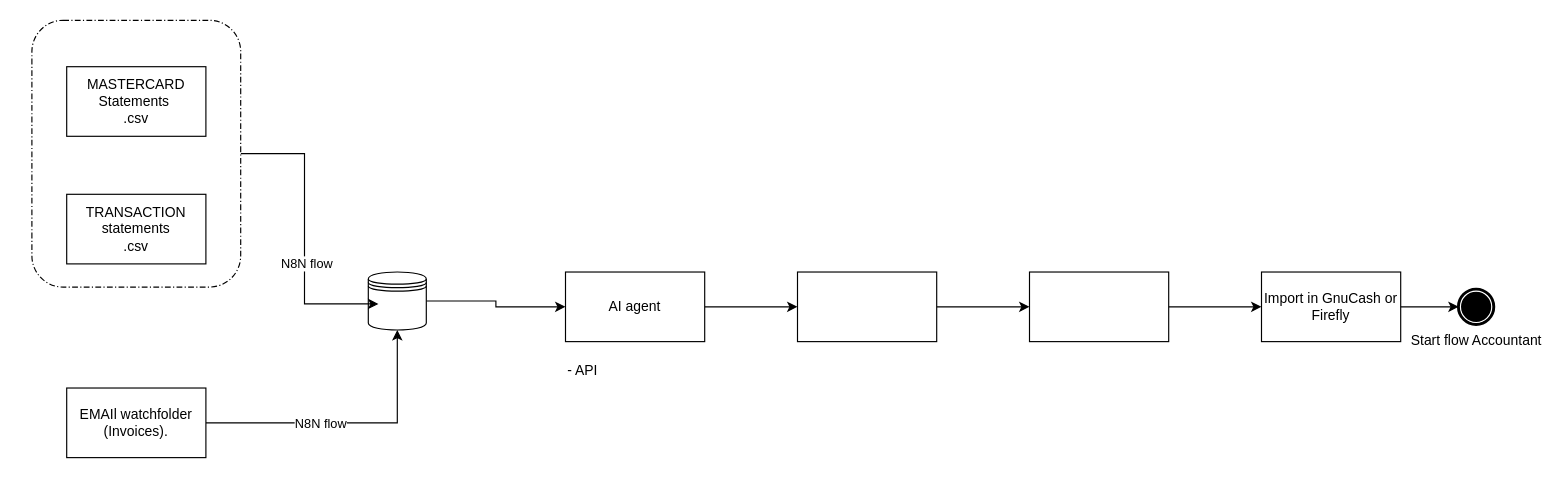
Some shapes in this 1561 by 478 pixel diagram are drawn without their labels. Each missing label, with the box of its shape:
Database: (367, 271, 426, 330)
Generate CSV: (1028, 271, 1169, 342)
Sanity Check: (796, 271, 937, 342)
